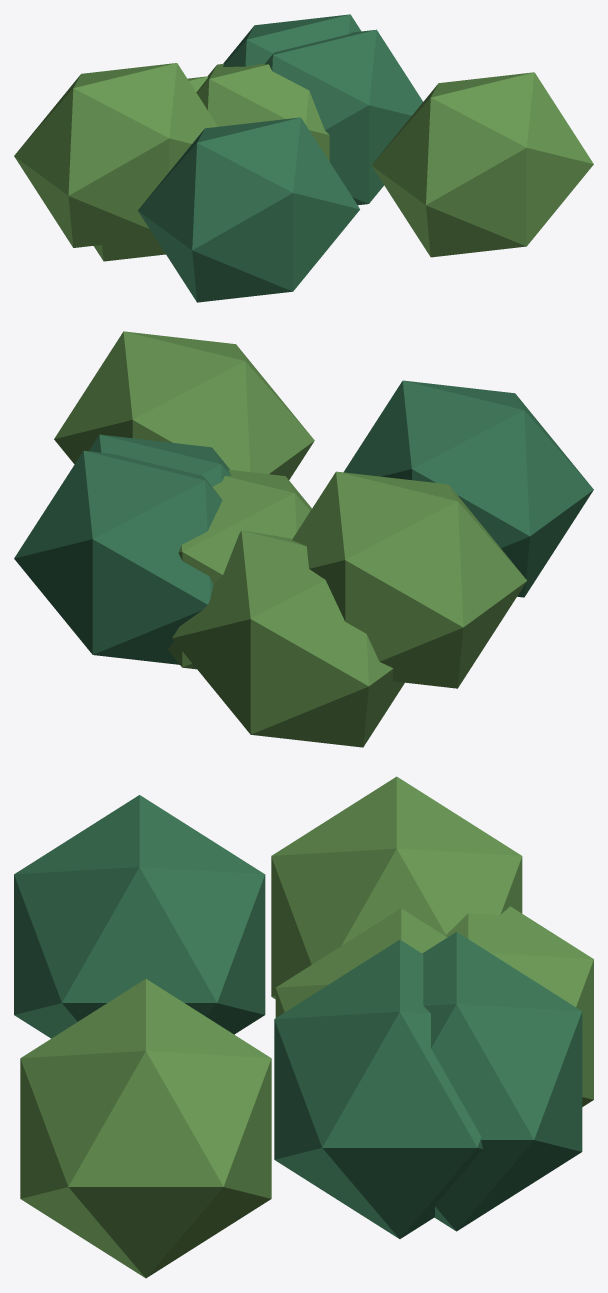
The model's file is bush.glb.
3 views of the same model, one above another, from view 1: azimuth 30°, elevation 25°; view 2: azimuth 150°, elevation 25°; view 3: azimuth 270°, elevation 25° (orthographic). The views are drawn at different scales.
Visible parts, largest first — view 1: 0_leaf, 0_jade; view 2: 0_leaf, 0_jade; view 3: 0_jade, 0_leaf.
Part boxes in pixels (left/top/right/bottom): 0_leaf: left=14, top=63, right=593, bottom=261; 0_jade: left=138, top=14, right=422, bottom=302; 0_leaf: left=54, top=331, right=526, bottom=747; 0_jade: left=14, top=380, right=593, bottom=664; 0_jade: left=14, top=795, right=582, bottom=1238; 0_leaf: left=20, top=776, right=593, bottom=1278.
Bounding box in the file's own units: 2.44 × 1.11 × 1.96.
